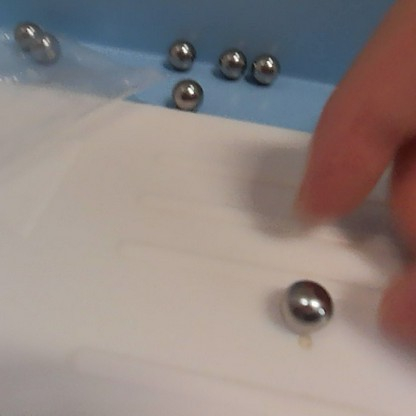ironball: (275, 269, 334, 340), (165, 74, 207, 113), (163, 37, 202, 71), (248, 49, 282, 86), (212, 44, 246, 80), (27, 32, 59, 63), (10, 20, 44, 48)
